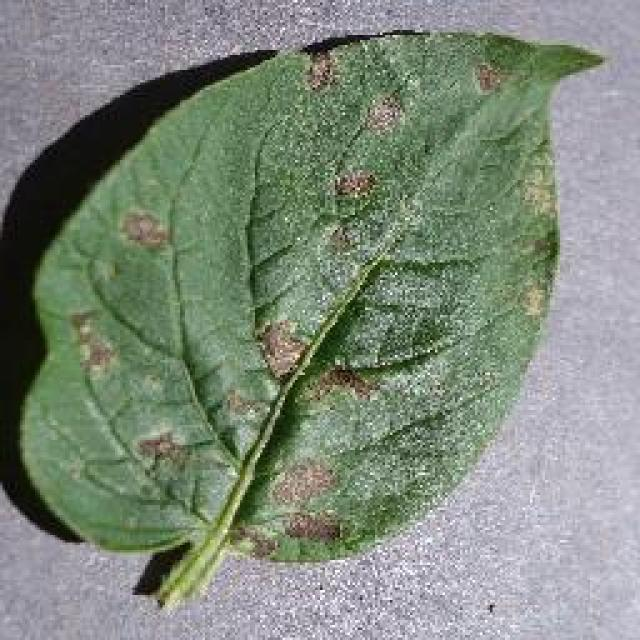early_blight: (10, 25, 608, 605)
